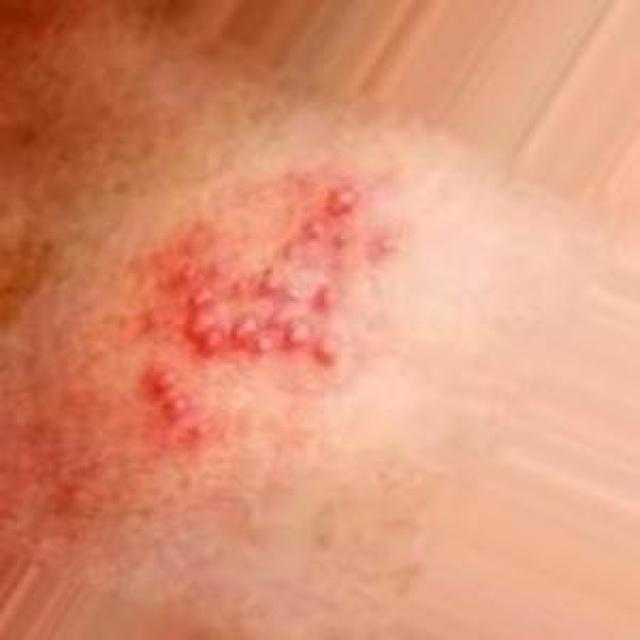Shingles: (140, 172, 383, 450)
